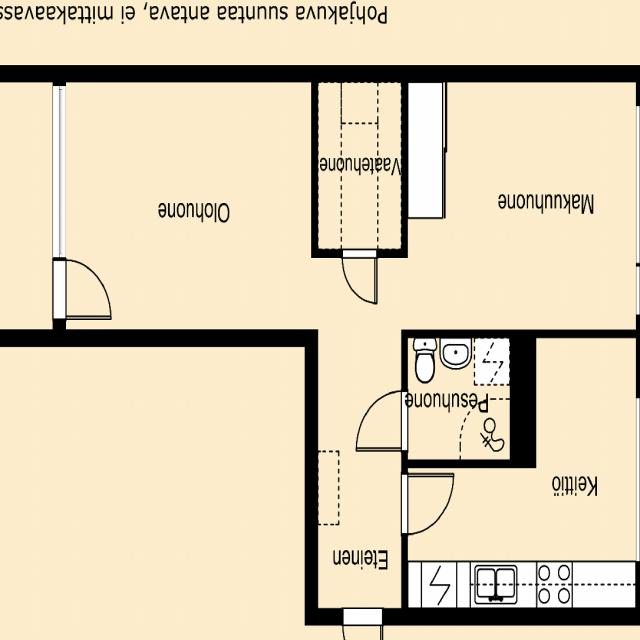door: (52, 260, 110, 318), (401, 472, 454, 534), (356, 393, 407, 452), (342, 249, 376, 303), (342, 607, 382, 640)
